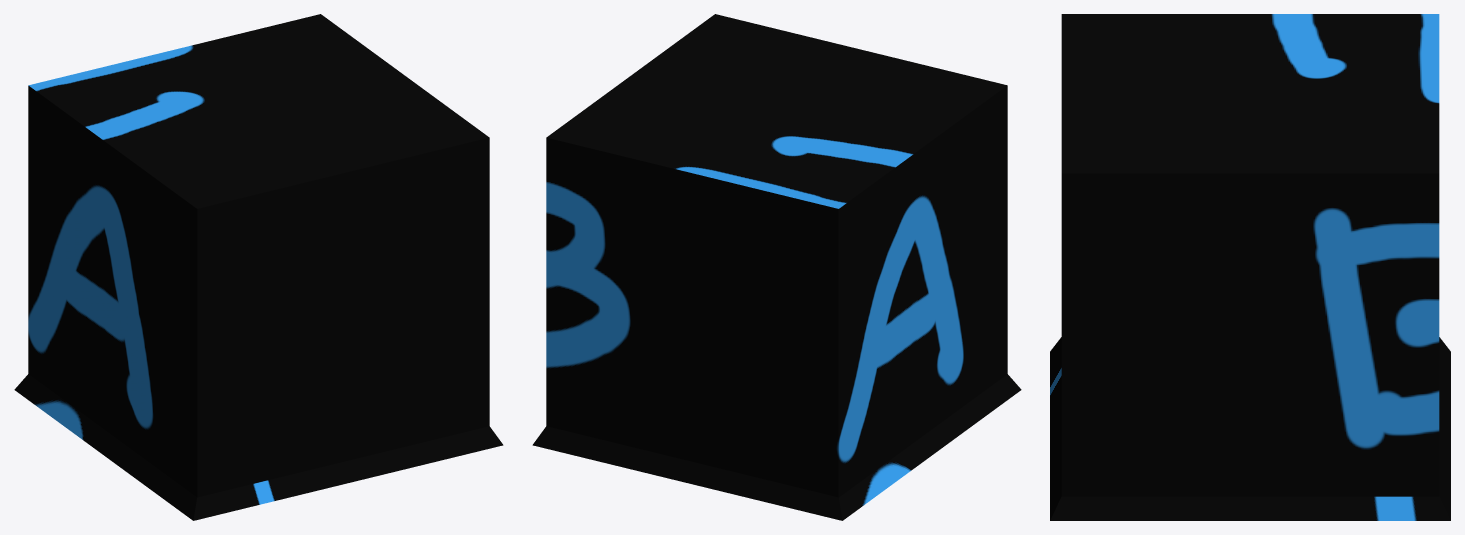
File: Figures.obj
The picture shows the model from 3 angles, left to right: view 1: azimuth 30°, elevation 25°; view 2: azimuth 150°, elevation 25°; view 3: azimuth 270°, elevation 25°; orthographic projection. The views are drawn at different scales.
Parts seen in each view (by area): view 1: Cube, Pyramid; view 2: Cube, Pyramid; view 3: Cube, Pyramid.
Part boxes in pixels (bbox=[...]): Cube: bbox=[28, 14, 489, 497]; Pyramid: bbox=[14, 374, 503, 520]; Cube: bbox=[546, 14, 1007, 497]; Pyramid: bbox=[532, 374, 1021, 520]; Cube: bbox=[1061, 14, 1439, 496]; Pyramid: bbox=[1050, 337, 1450, 520].
Bounding box in the file's own units: 2.12 × 2 × 2.12.
